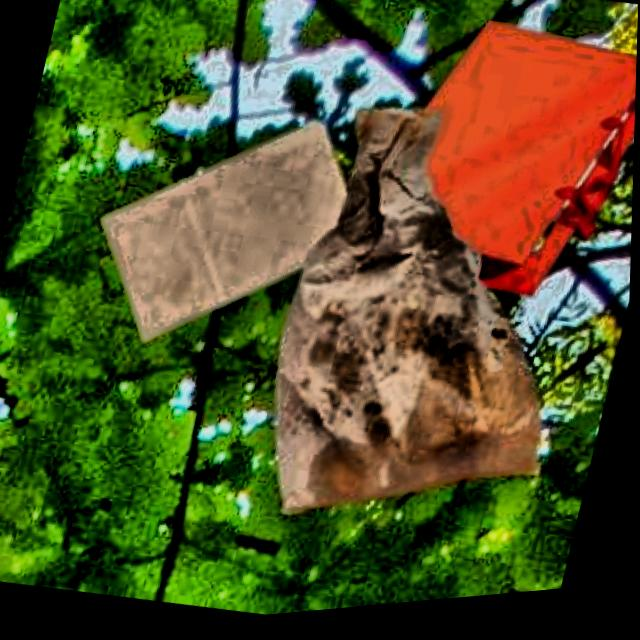Paper-bag: (238, 68, 623, 575), (63, 68, 417, 408), (357, 0, 639, 336)
